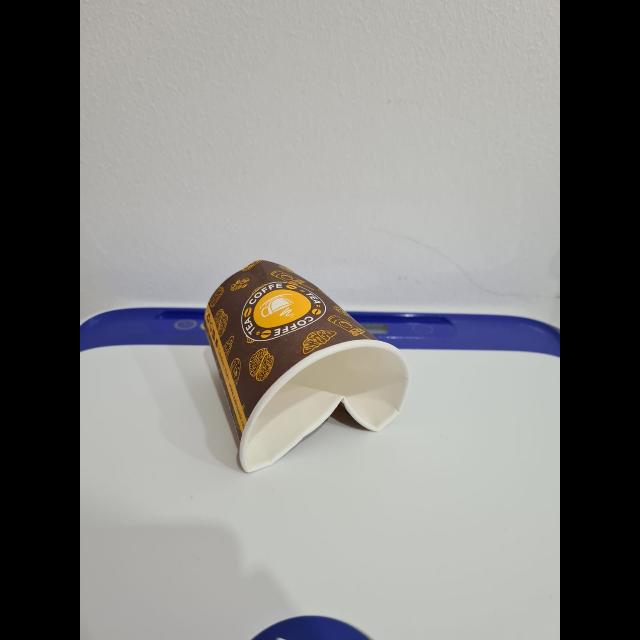trash: (186, 234, 420, 481)
